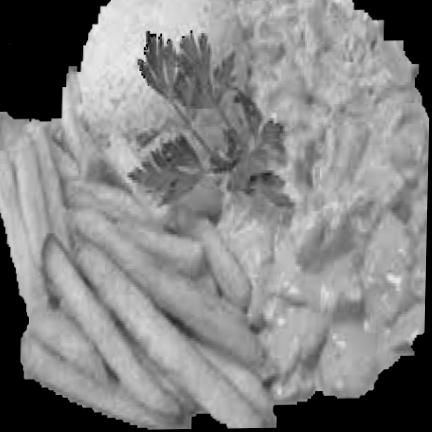chicken: (219, 0, 429, 400)
potato: (0, 72, 272, 429)
rice: (81, 0, 248, 136)
